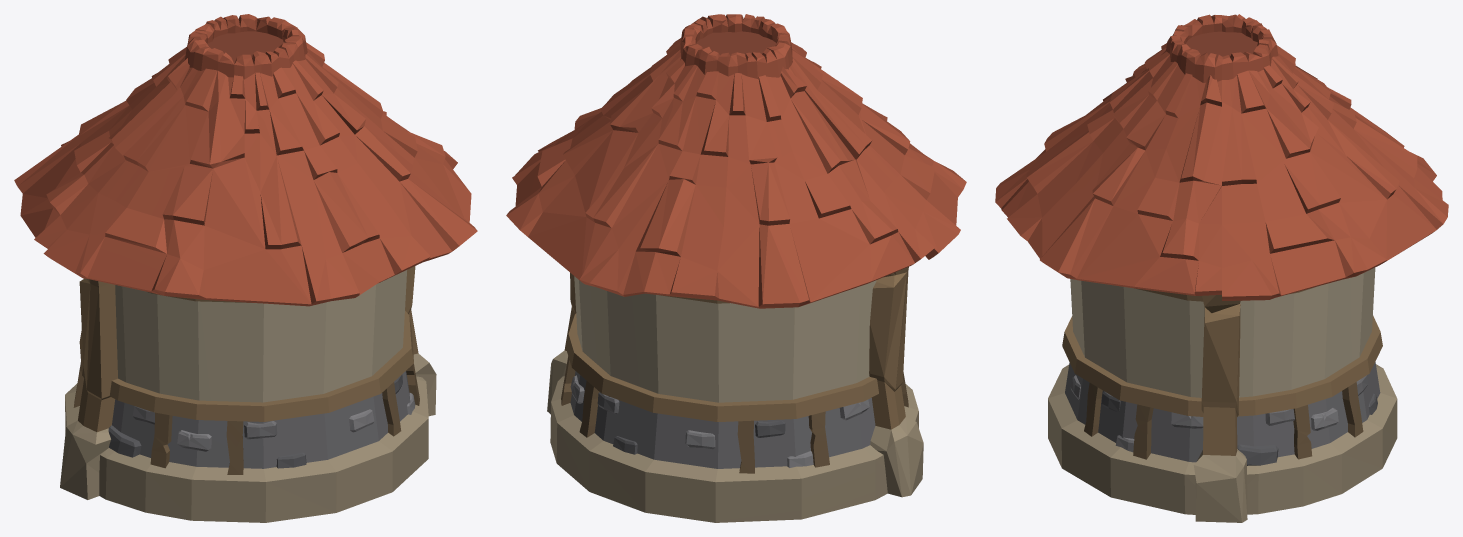
File: SM_Bld_House_RoomRound_02.gltf
3 renders of one model, left to right at view 1: azimuth 30°, elevation 25°; view 2: azimuth 150°, elevation 25°; view 3: azimuth 270°, elevation 25°, orthographic. The views are drawn at different scales.
Parts seen in each view (by area): view 1: SM_Bld_House_RoomRound_02; view 2: SM_Bld_House_RoomRound_02; view 3: SM_Bld_House_RoomRound_02.
Part boxes in pixels (x1,y1,x2,y2): SM_Bld_House_RoomRound_02: [14, 14, 477, 522]; SM_Bld_House_RoomRound_02: [506, 14, 966, 522]; SM_Bld_House_RoomRound_02: [995, 14, 1448, 522].
Size of the model in its own units: 4.4 by 4.31 by 4.39.
Materials: 1 (1 with a texture image).
